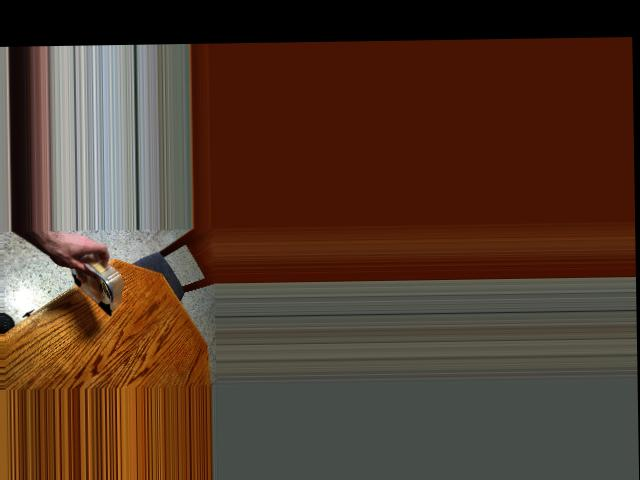cheese: (50, 250, 136, 312)
